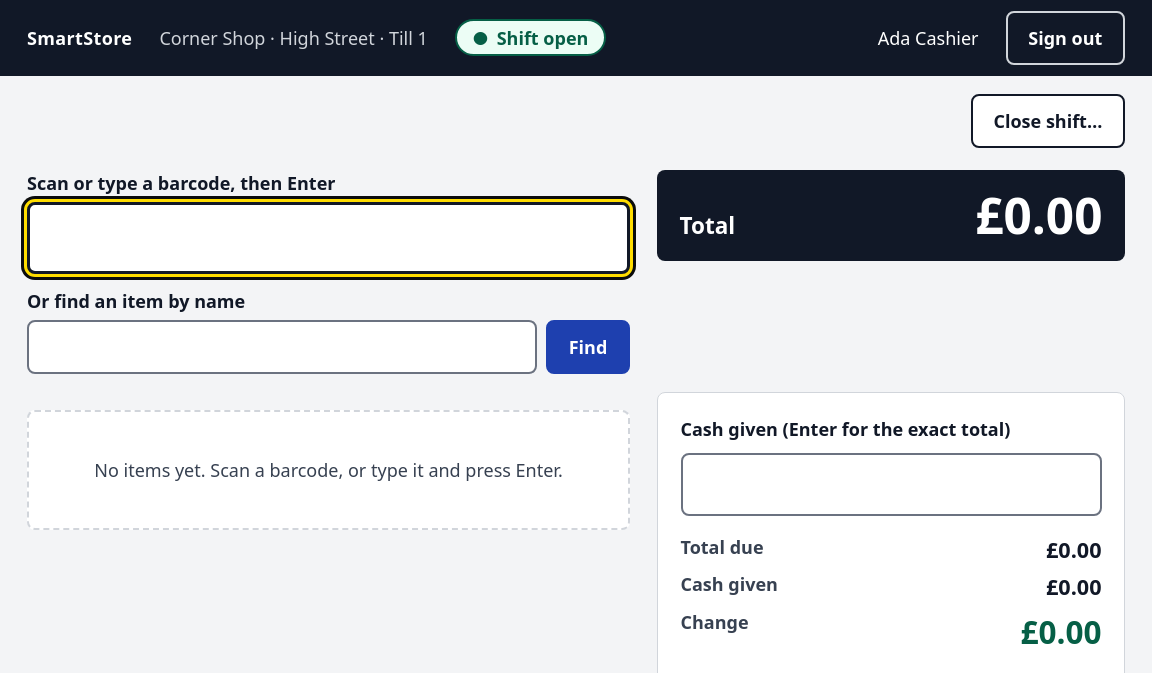
it: the till shell (UX-35, UX-52, UX-07, UX-08) › UX-57: while the cart has items, closing the shift offers only "Keep selling", and says why
This screenshot has width=1152, height=673.
Type "012345678905" into the field labelled "Scan or type a barcode, then Enter" at x=328, y=238, box [27,202,630,274]
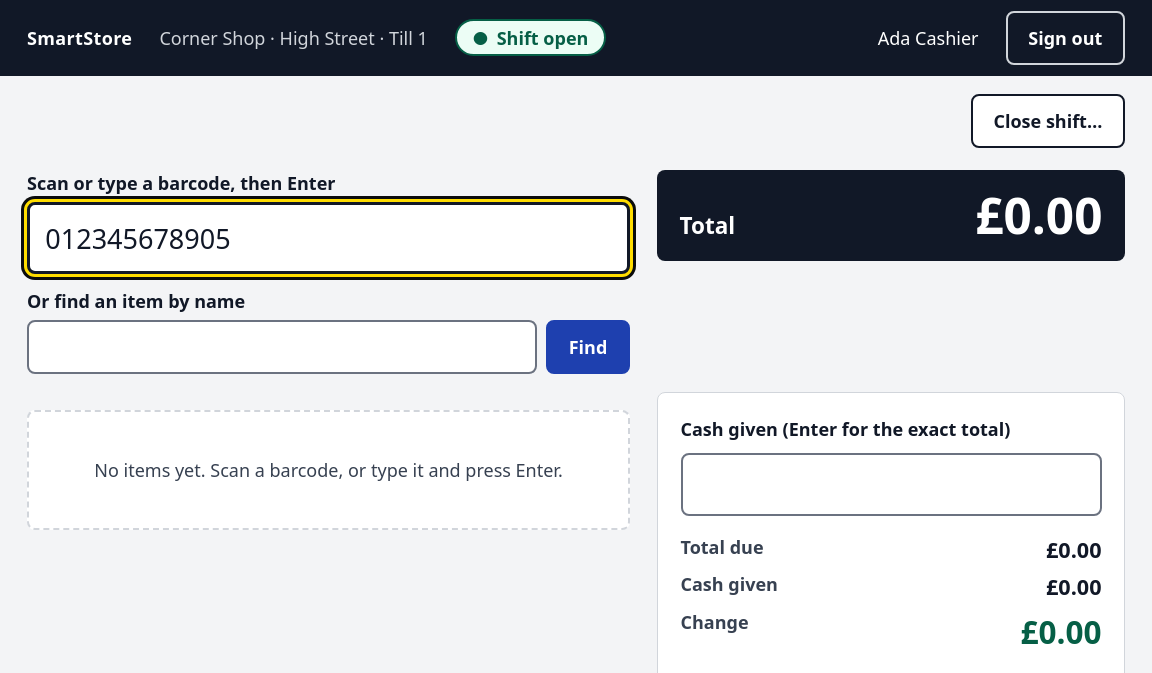
Submit the form labelled "Scan or type a barcode, then Enter", box [27,170,630,274]
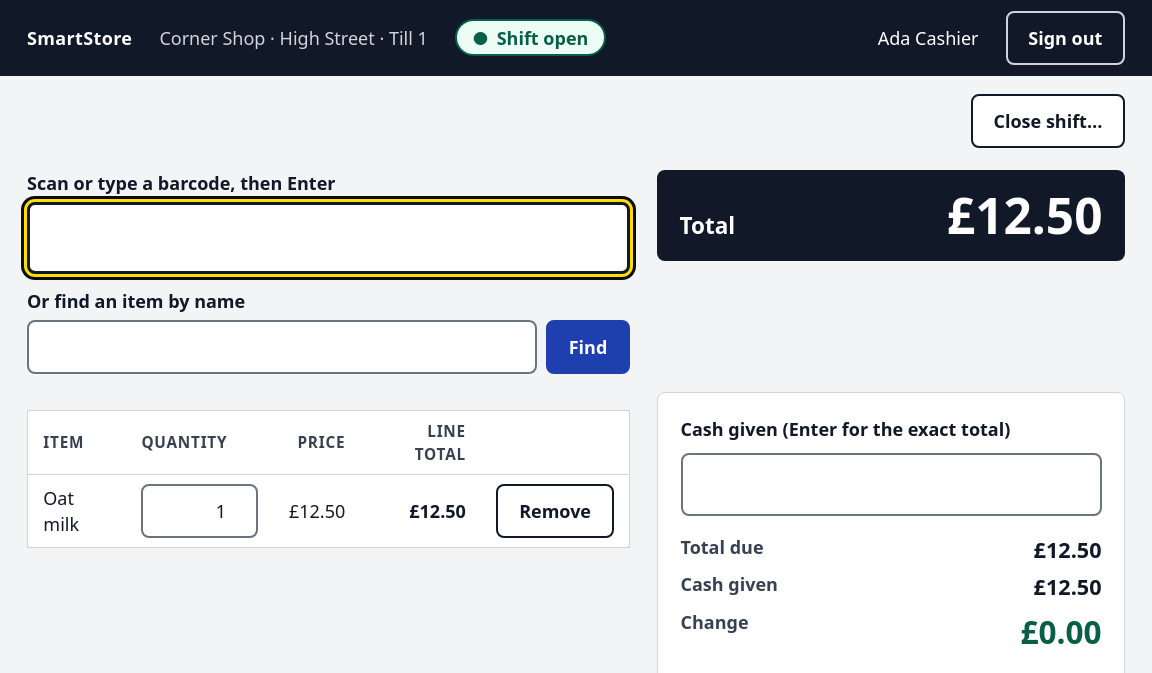
Click the button "Close shift…" at x=1048, y=121, box [971,94,1125,148]
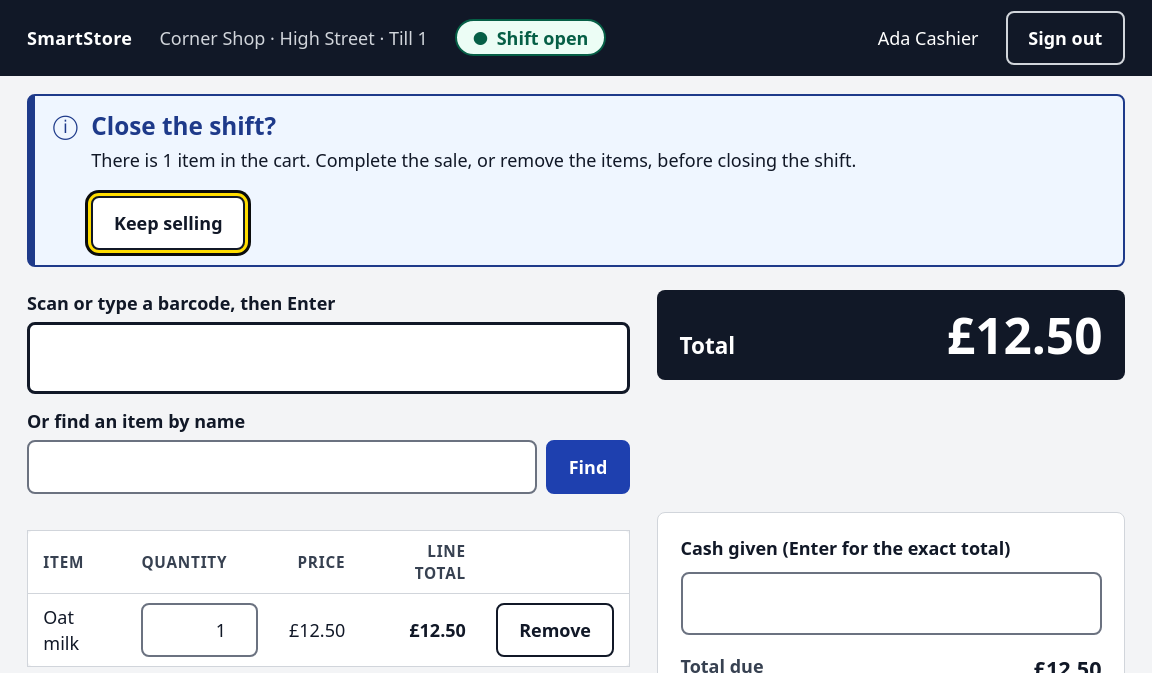
Expected: the button "Begin counting" is not shown
Result: the text "There is 1 item in the cart. Complete the sale, or remove the items, before closing the shift." is shown at [91,147,856,173]
Click the button "Keep selling" at x=168, y=223, box [91,196,245,250]
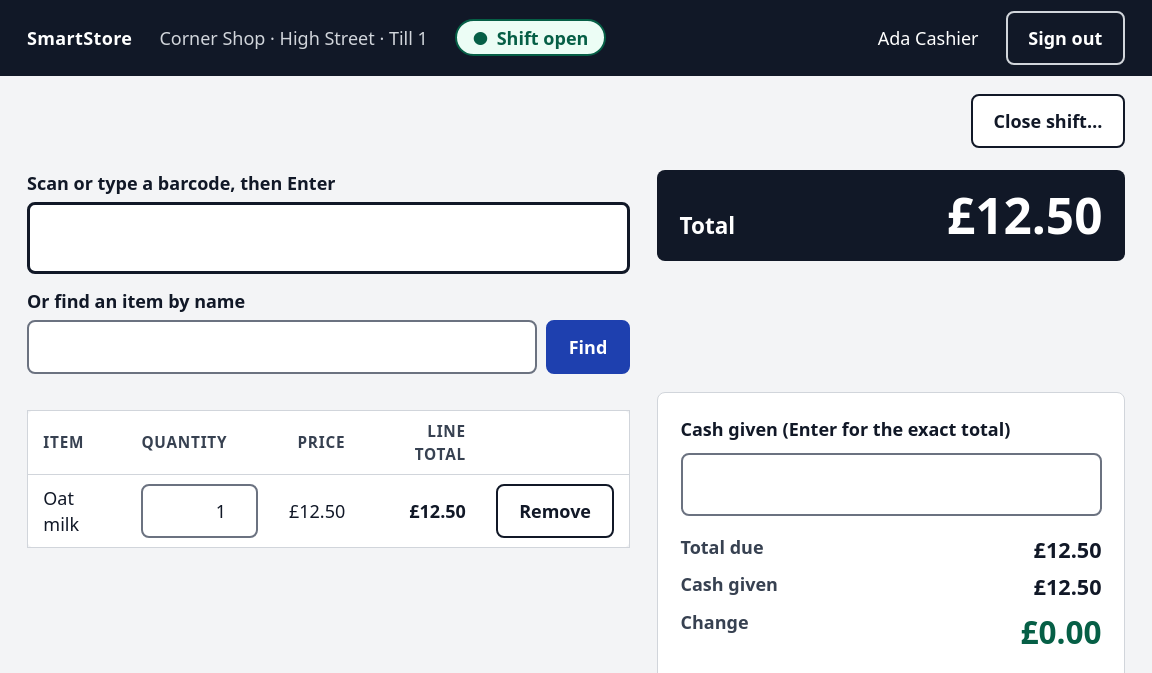
Click the button with aria-label "Remove Oat milk" at x=555, y=511, box [496,484,614,538]
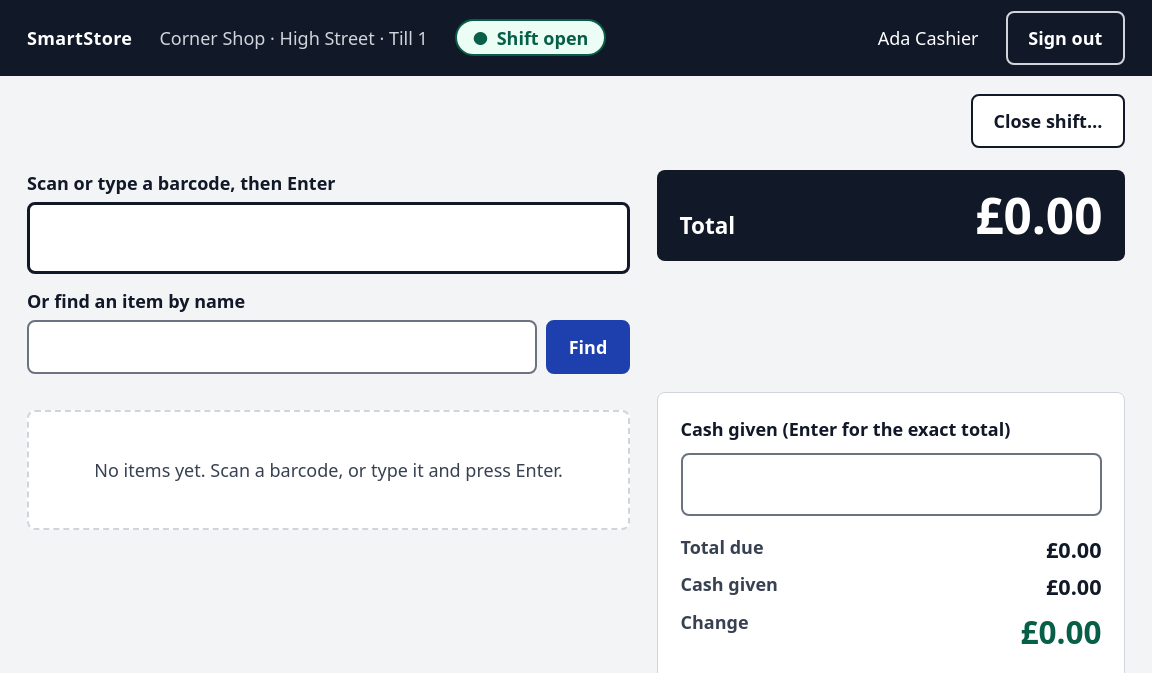
Click the button "Close shift…" at x=1048, y=121, box [971,94,1125,148]
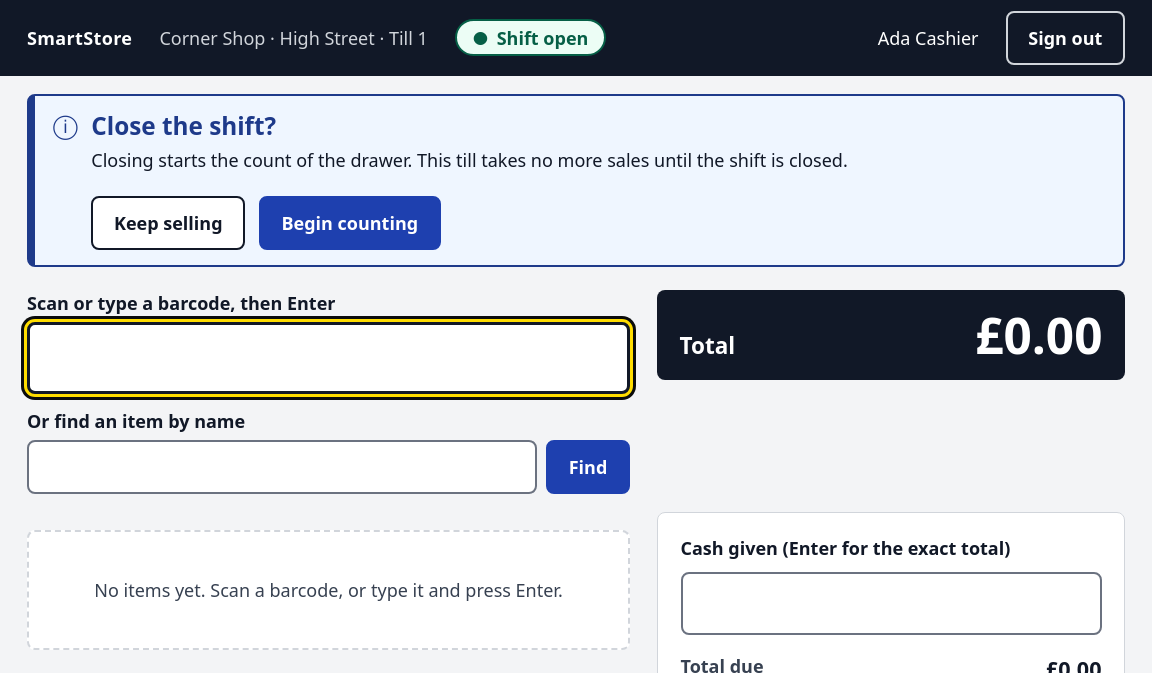
Result: the button "Begin counting" is shown at [259,196,441,250]
